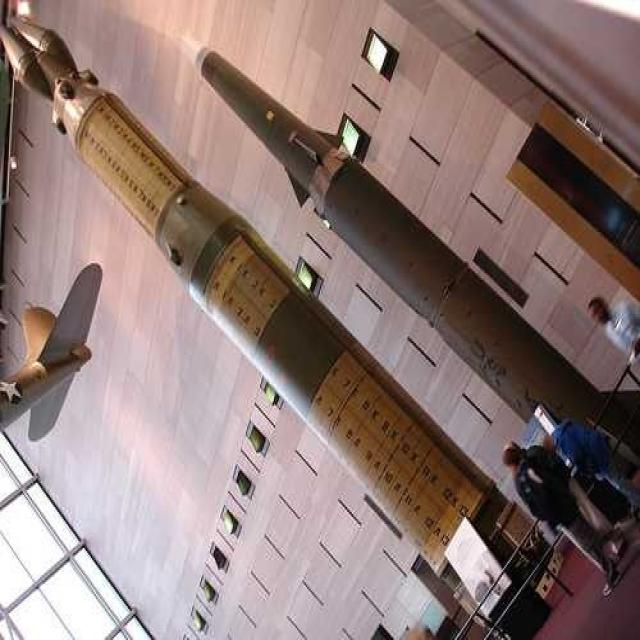missile: (3, 13, 548, 617), (196, 36, 614, 457)
